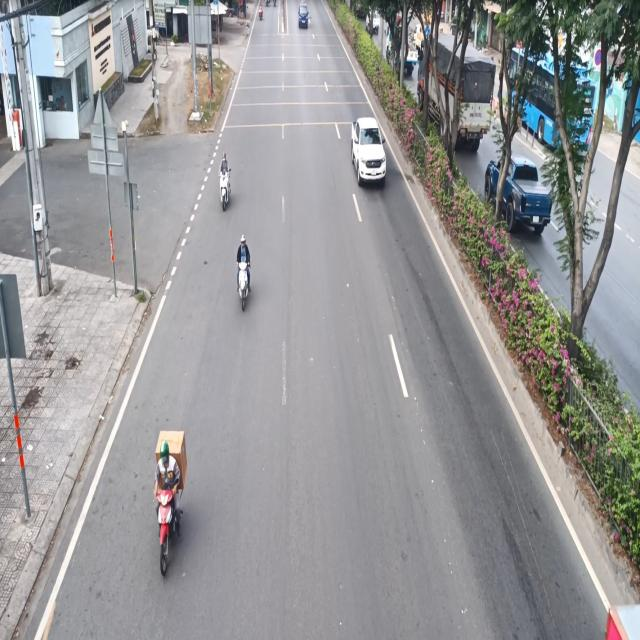car: (349, 111, 389, 191)
motor: (155, 437, 179, 578), (236, 233, 252, 310), (218, 148, 231, 212)
